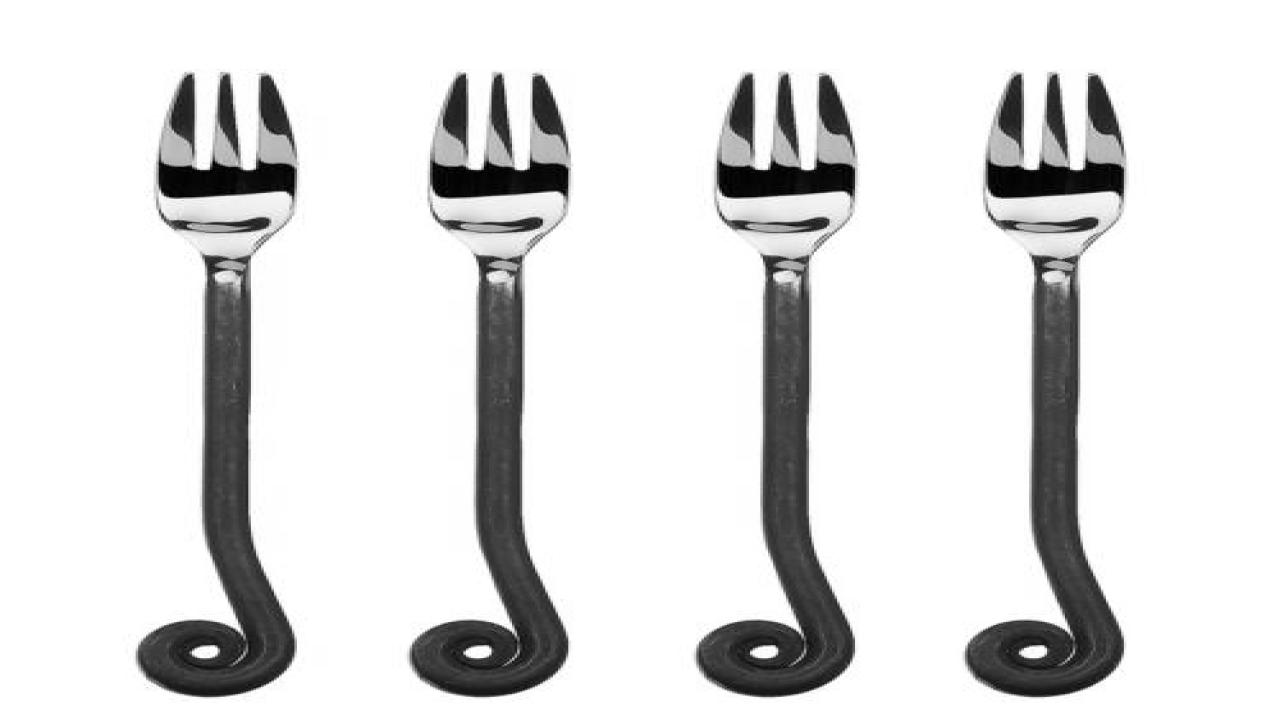fork: (407, 69, 571, 696), (694, 69, 858, 696), (136, 70, 300, 696), (962, 70, 1126, 696)
